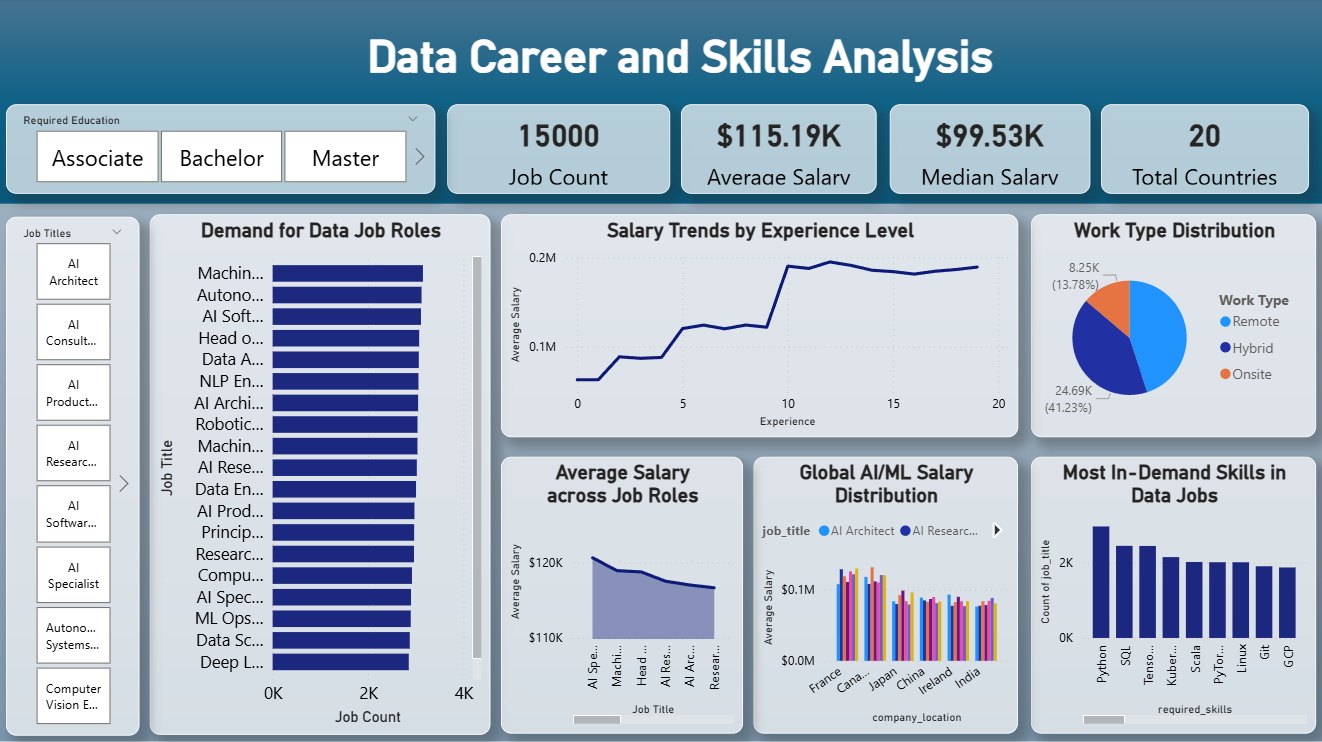

This screenshot's page, from the dashboard's own definition file:
{"tool":"powerbi","page":{"name":"DASHBOARD","canvas":[1280,720],"ordinal":0},"visuals":[{"type":"card","fields":{"Values":["Count(ai_job_dataset_cleaned.job_id)"]},"box":[435.7,102.4,215,86.6],"z":0},{"type":"card","fields":{"Values":["ai_job_dataset_cleaned.Average Salary"]},"box":[660.8,102.4,189,86.6],"z":1000},{"type":"card","fields":{"Values":["ai_job_dataset_cleaned.Median Salary"]},"box":[862.8,102.4,193.3,86.6],"z":2000},{"type":"card","fields":{"Values":["ai_job_dataset_cleaned.Total Countries"]},"box":[1066.2,102.4,200.5,86.6],"z":3000},{"type":"barChart","title":"Demand for Data Job Roles","fields":{"Category":["ai_job_dataset_cleaned.job_title"],"Y":["CountNonNull(ai_job_dataset_cleaned.job_title)"]},"box":[148.6,209.2,328.9,502.1],"z":4000},{"type":"clusteredColumnChart","title":"Most In-Demand Skills in Data Jobs","fields":{"Category":["ai_job_dataset_cleaned.required_skills"],"Y":["CountNonNull(ai_job_dataset_cleaned.job_title)"]},"box":[998.4,442.9,275.6,266.9],"z":5000},{"type":"pieChart","title":"Work Type Distribution","fields":{"Category":["ai_job_dataset_cleaned.Work Type"],"Y":["CountNonNull(ai_job_dataset_cleaned.job_title)"]},"box":[998.4,209.2,275.6,215],"z":6000},{"type":"clusteredColumnChart","title":"Global AI/ML Salary Distribution","fields":{"Category":["ai_job_dataset_cleaned.company_location"],"Series":["ai_job_dataset_cleaned.job_title"],"Y":["ai_job_dataset_cleaned.Average Salary"]},"box":[731.5,442.9,255.4,266.9],"z":7000},{"type":"areaChart","title":"Average Salary across Job Roles","fields":{"Category":["ai_job_dataset_cleaned.job_title"],"Y":["ai_job_dataset_cleaned.Average Salary"]},"box":[487.7,442.9,233.7,266.9],"z":8000},{"type":"lineChart","title":"Salary Trends by Experience Level","fields":{"Category":["ai_job_dataset_cleaned.years_experience"],"Y":["Avg(ai_job_dataset_cleaned.salary_usd)"]},"box":[487.7,209.2,499.2,215],"z":9000},{"type":"slicer","fields":{"Values":["ai_job_dataset_cleaned.job_title"]},"box":[10.1,210.6,128.4,500.6],"z":10000},{"type":"slicer","fields":{"Values":["ai_job_dataset_cleaned.education_required"]},"box":[10.1,102.4,414.1,86.6],"z":11000},{"type":"textbox","box":[99.6,26,1121,119.7],"z":11001}]}

Visuals, with their boxes in screenshot pixels (x1, y1, x2, y2), scaled from the page's 1280x720 canvas onto the 1322x742 screenshot:
card - Count(ai_job_dataset_cleaned.job_id): Rect(450, 106, 672, 195)
card - ai_job_dataset_cleaned.Average Salary: Rect(682, 106, 878, 195)
card - ai_job_dataset_cleaned.Median Salary: Rect(891, 106, 1091, 195)
card - ai_job_dataset_cleaned.Total Countries: Rect(1101, 106, 1308, 195)
"Demand for Data Job Roles" barChart: Rect(153, 216, 493, 733)
"Most In-Demand Skills in Data Jobs" clusteredColumnChart: Rect(1031, 456, 1316, 731)
"Work Type Distribution" pieChart: Rect(1031, 216, 1316, 437)
"Global AI/ML Salary Distribution" clusteredColumnChart: Rect(756, 456, 1019, 731)
"Average Salary across Job Roles" areaChart: Rect(504, 456, 745, 731)
"Salary Trends by Experience Level" lineChart: Rect(504, 216, 1019, 437)
slicer - ai_job_dataset_cleaned.job_title: Rect(10, 217, 143, 733)
slicer - ai_job_dataset_cleaned.education_required: Rect(10, 106, 438, 195)
textbox: Rect(103, 27, 1261, 150)
